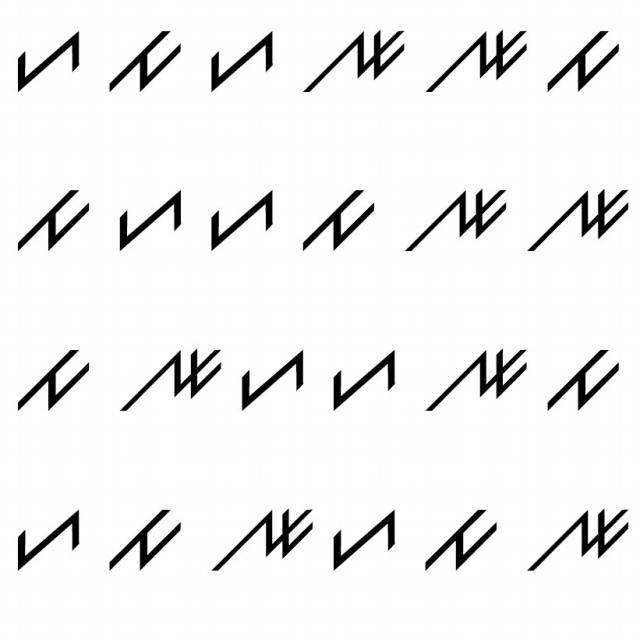ha: (198, 15, 280, 103), (3, 19, 91, 101), (321, 343, 404, 418), (13, 496, 85, 578), (200, 185, 276, 260), (235, 343, 311, 414), (328, 506, 402, 578), (110, 185, 187, 254)
mba: (7, 330, 96, 420), (5, 179, 100, 259), (99, 498, 184, 583), (541, 338, 624, 418), (298, 177, 378, 257), (545, 21, 625, 99), (422, 501, 502, 578), (105, 27, 186, 102)
nda: (418, 328, 531, 420), (519, 486, 634, 574), (110, 341, 228, 425), (297, 23, 411, 106), (422, 16, 534, 99), (403, 179, 515, 260), (527, 175, 633, 258), (214, 502, 318, 577)
